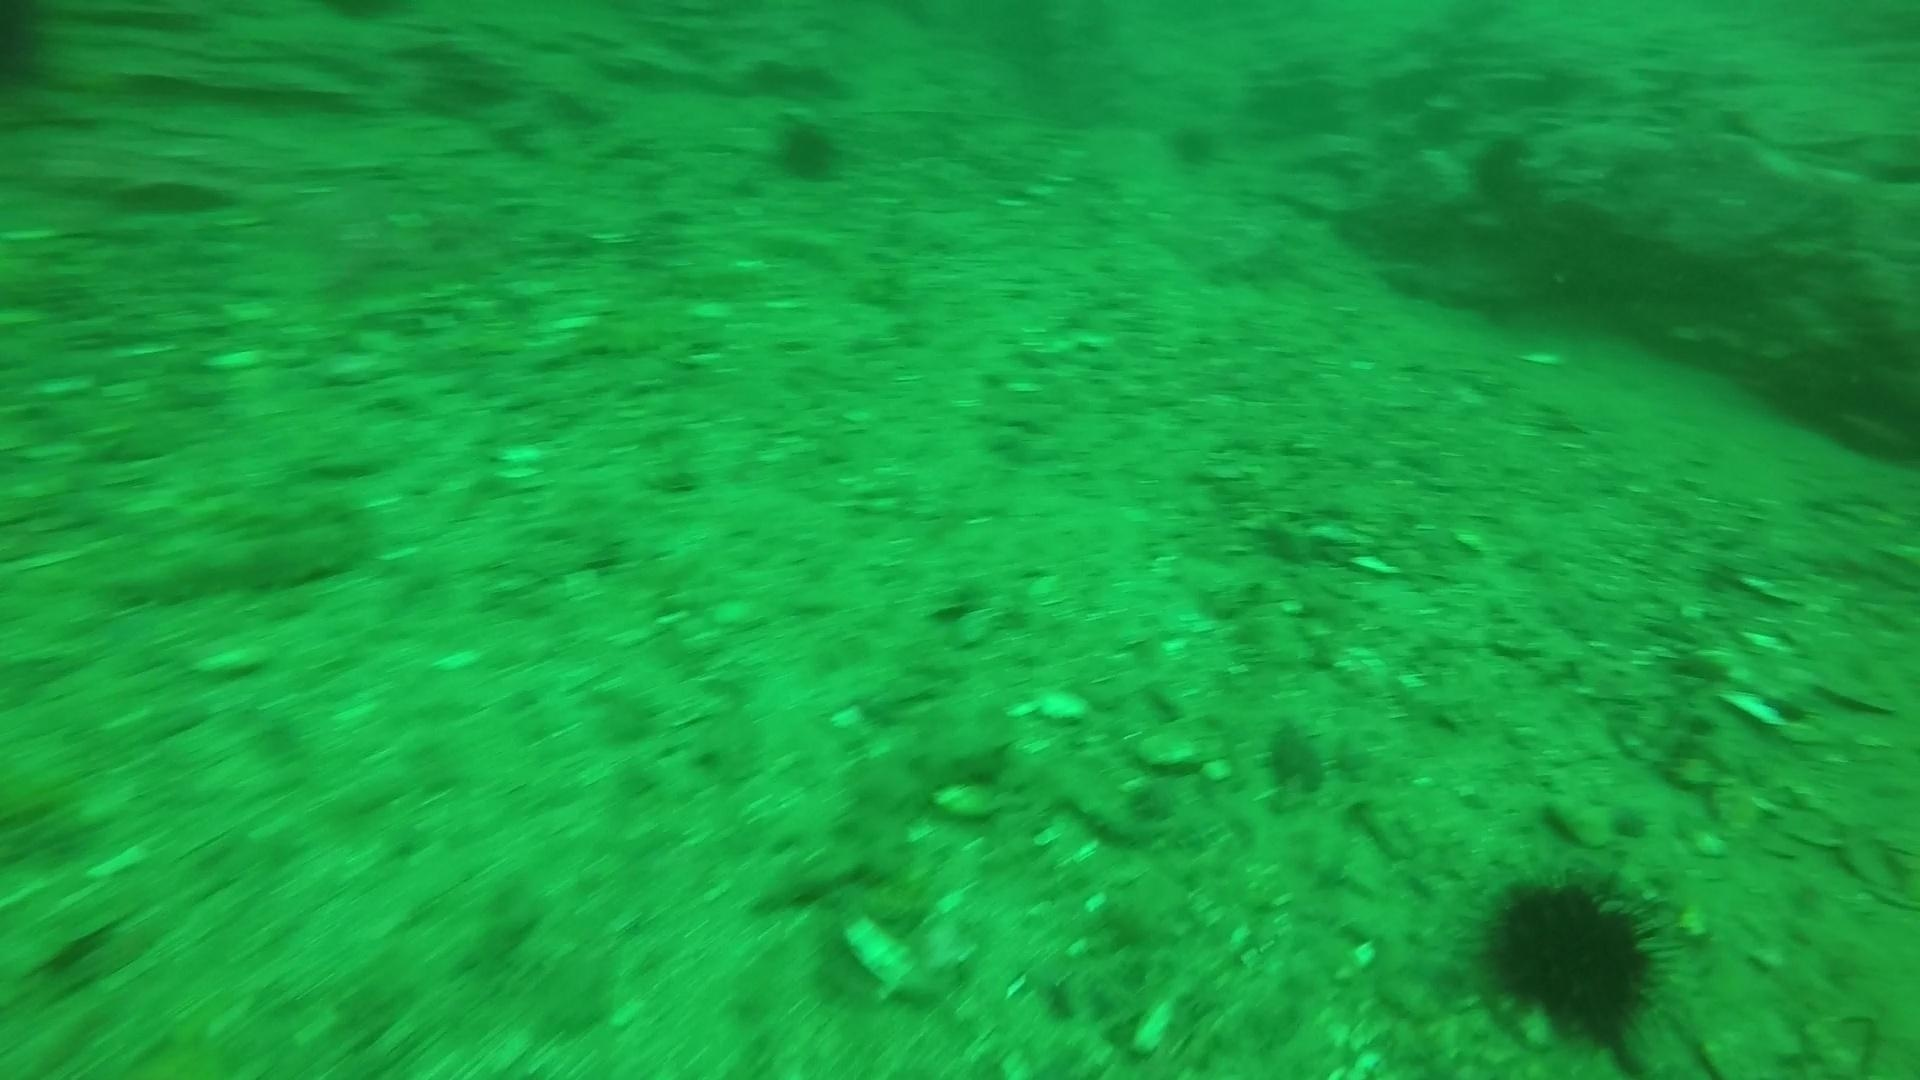echinus: (1462, 856, 1687, 1058), (764, 109, 851, 189), (1159, 113, 1226, 175)
holothurian: (76, 524, 402, 622)
